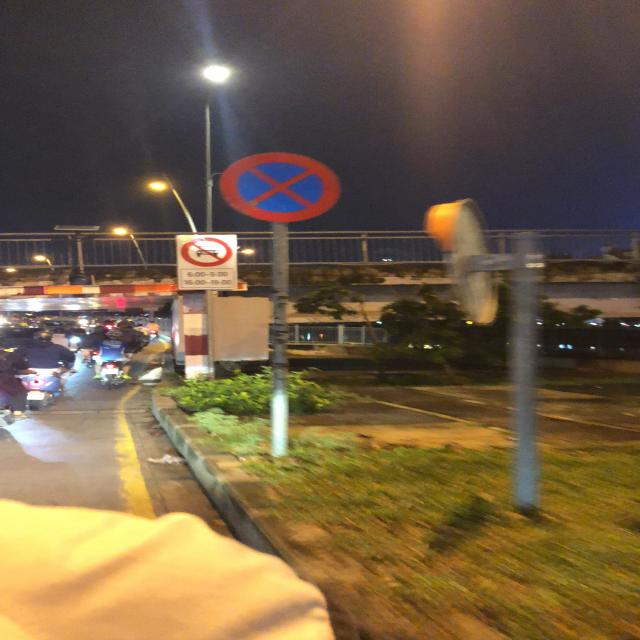Bien bao cam dung xe va do xe: (216, 153, 343, 222)
Bien bao cam xe oto: (174, 236, 236, 266)
